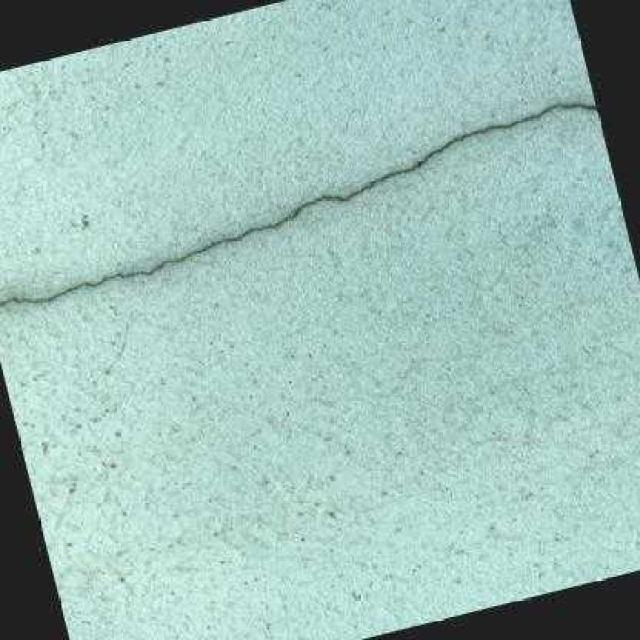D00: (0, 100, 598, 304)
